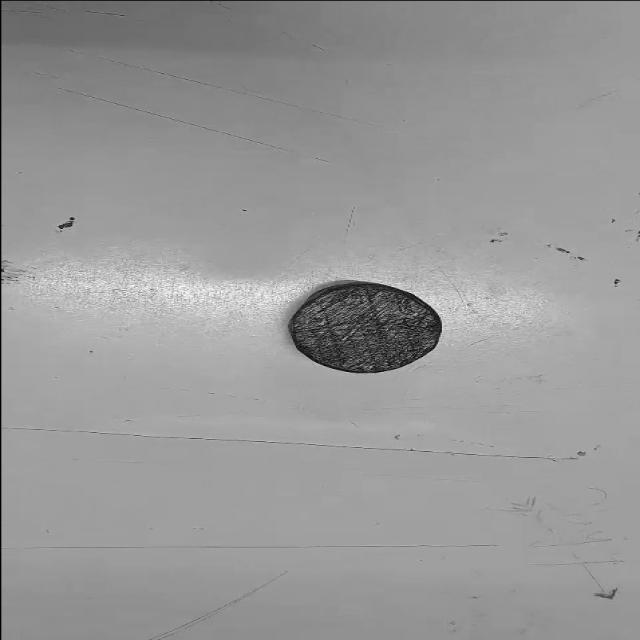bcircle: (287, 281, 447, 374)
